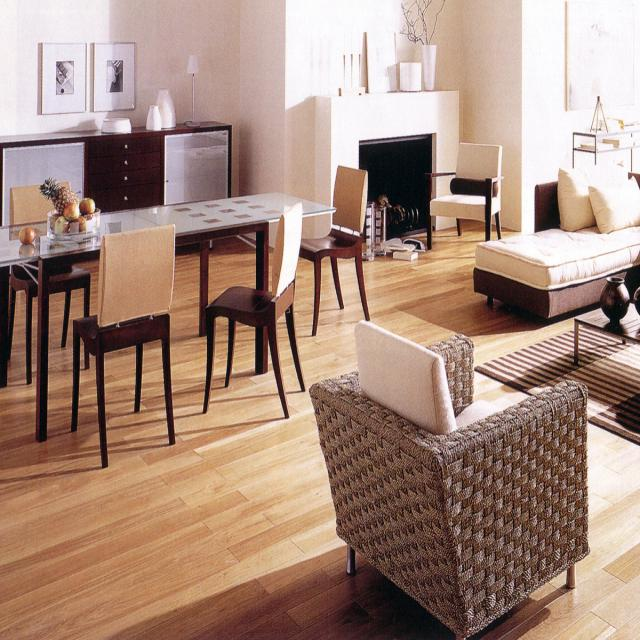apple: (19, 224, 35, 242), (79, 198, 98, 213), (66, 204, 80, 216)
bowl -X: (102, 117, 132, 133)
bowl of garlic: (39, 174, 102, 238)
candles: (339, 38, 366, 96)
chair -occluded-: (310, 324, 585, 639), (70, 223, 177, 469), (202, 200, 307, 418), (9, 178, 92, 378), (302, 164, 372, 334), (428, 140, 505, 245)
coffee table: (574, 301, 639, 358)
couch -x: (475, 159, 640, 318)
fireplace mantle: (361, 135, 430, 242)
floor -X: (0, 220, 639, 639)
lamp crop: (187, 53, 201, 122)
log holder: (386, 207, 420, 230)
mantle: (314, 90, 460, 238)
object: (363, 201, 375, 264), (376, 201, 387, 256)
picture crop: (567, 3, 635, 107), (43, 41, 87, 110), (94, 42, 137, 108), (367, 30, 399, 92)
pillow occluded: (450, 176, 494, 195)
pillows: (559, 159, 639, 235)
pineapple plant: (42, 176, 80, 212)
pot hanger: (600, 275, 630, 322)
rug -partially obscured-: (476, 295, 640, 443)
side: (1, 117, 232, 225)
stack of books: (388, 239, 420, 260), (607, 117, 638, 130)
stacks of books -X: (582, 134, 634, 152)
table -X: (1, 191, 337, 440), (571, 127, 636, 164)
tripod occluded: (589, 95, 610, 132)
vase -X: (399, 1, 446, 88), (399, 60, 422, 91)
vases: (147, 90, 175, 127)
wall clock: (1, 0, 639, 243)
